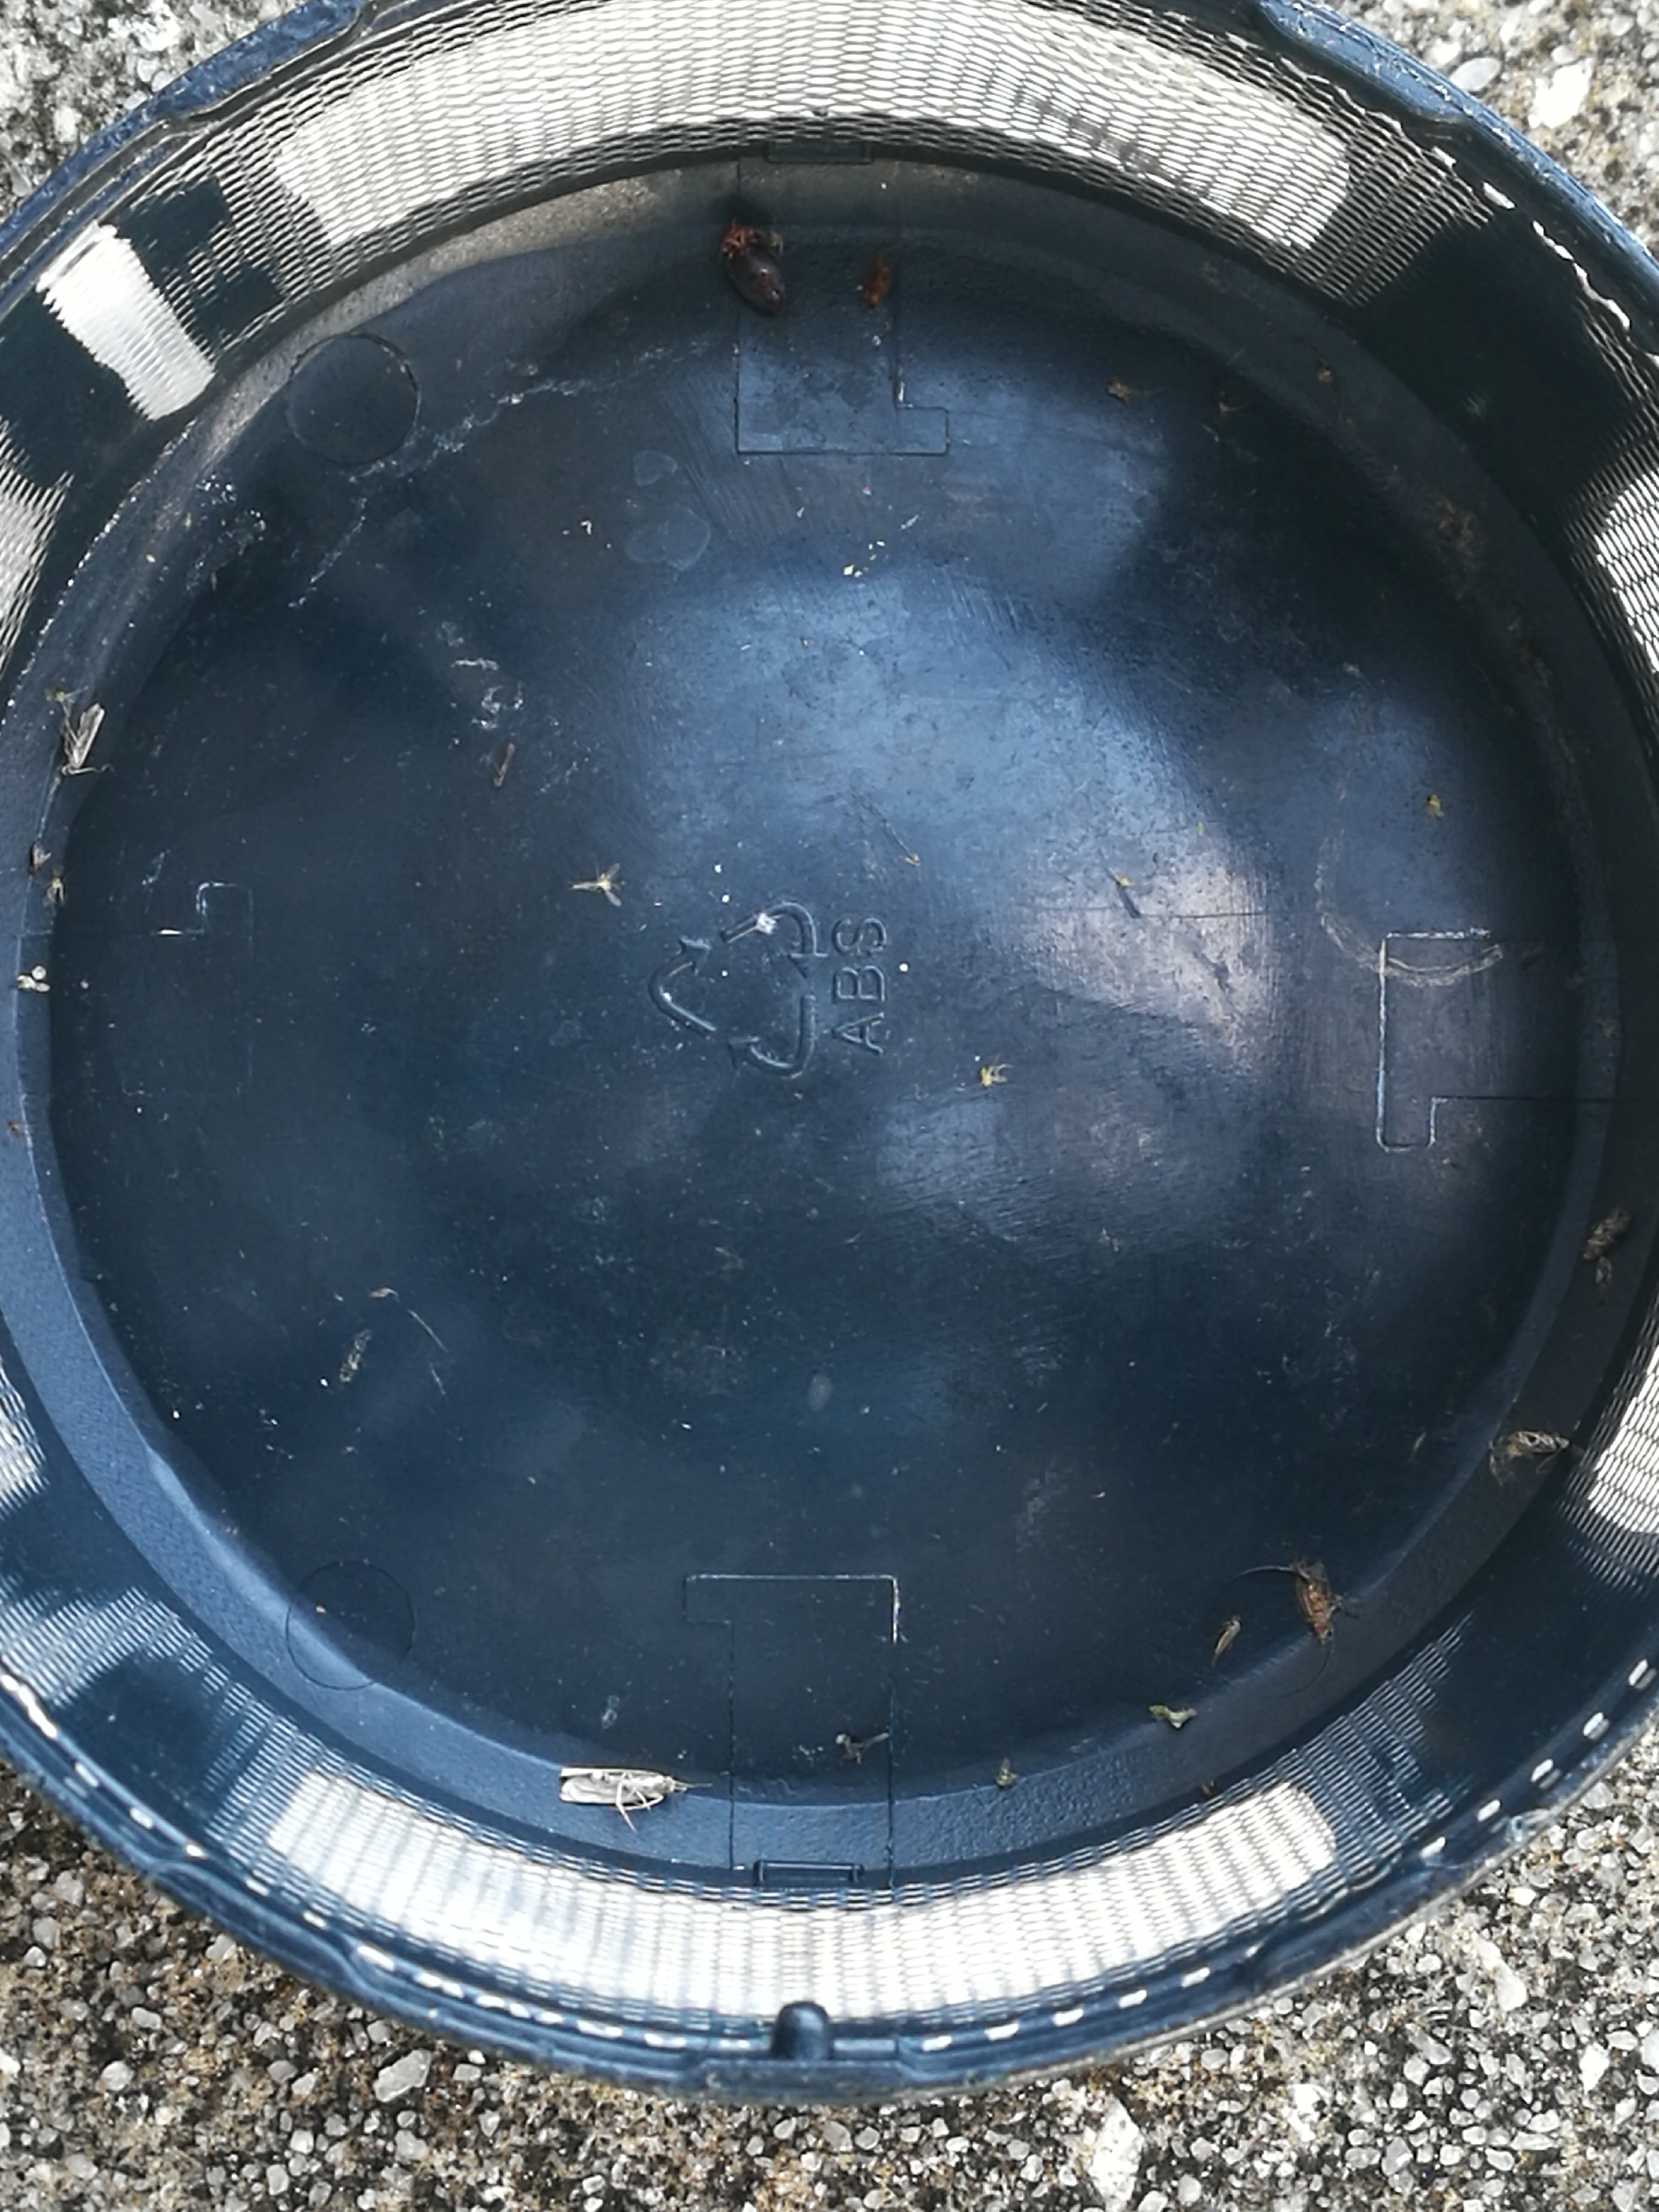beetle: (721, 225, 786, 317)
mosquito: (558, 1768, 676, 1804), (1295, 1561, 1331, 1641), (64, 704, 105, 770), (1582, 1209, 1629, 1259), (1511, 1430, 1570, 1453), (31, 845, 52, 869)
